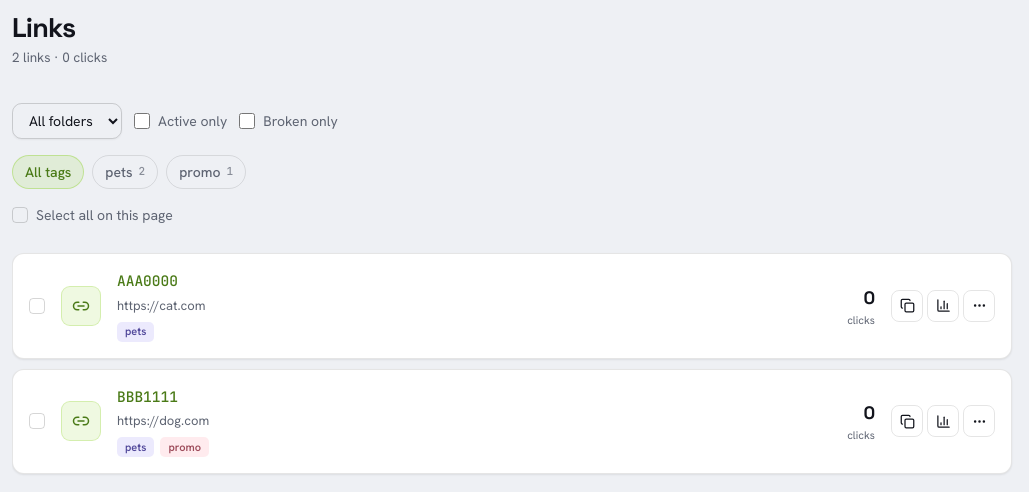
Scenario: Links › filters by tag via the API (?tag= in the querystring)
Expected: the link "AAA0000" is shown, [117,270,178,292]
Click the button "promo 1" at (206, 172), box [166,155,246,189]
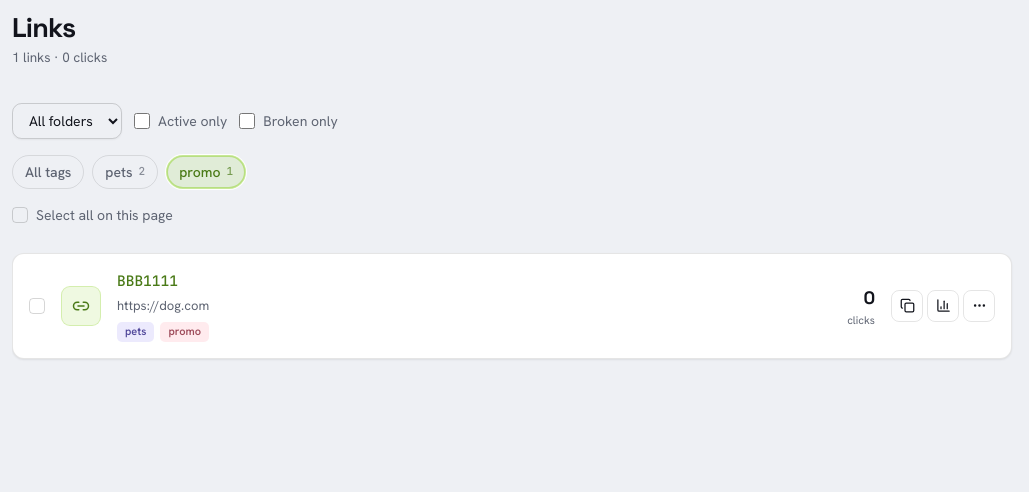
Expected: the link "BBB1111" is shown, [117,270,178,292]
Expected: the link "AAA0000" is gone
